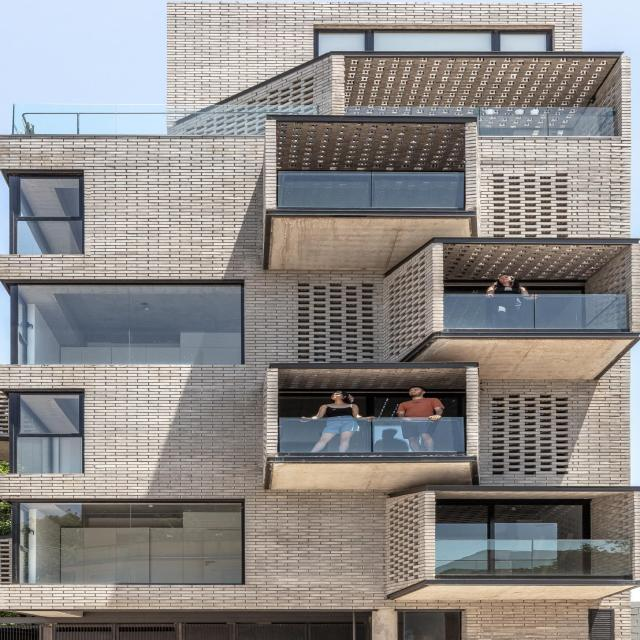door: (57, 622, 371, 637), (399, 612, 469, 640)
railing: (2, 103, 318, 136), (348, 106, 615, 136), (430, 539, 635, 578), (278, 170, 466, 210), (441, 293, 627, 331), (275, 418, 466, 453)
window: (11, 500, 242, 585), (7, 285, 244, 367), (314, 28, 550, 56), (10, 390, 86, 475), (434, 498, 589, 537), (10, 177, 82, 255)
